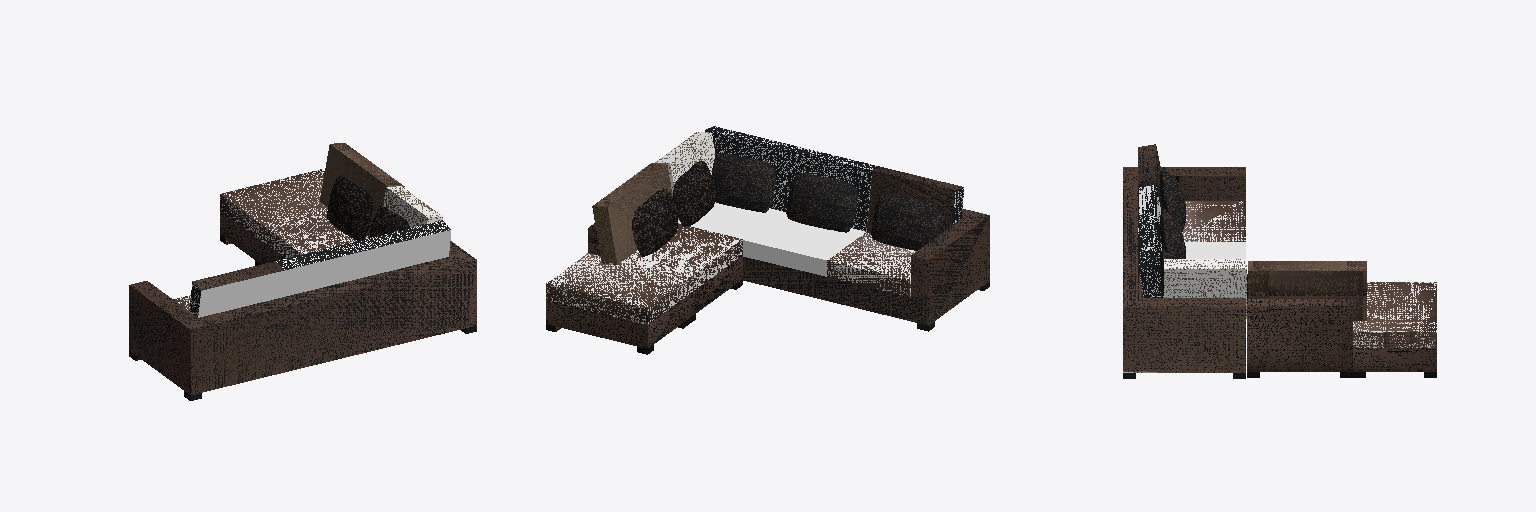
3 renders of one model, left to right at view 1: azimuth 30°, elevation 25°; view 2: azimuth 150°, elevation 25°; view 3: azimuth 270°, elevation 25°, orthographic.
Visible parts, largest first — view 1: mesh4_mesh4-geometry, mesh2_mesh2-geometry, mesh3_mesh3-geometry, mesh9_mesh9-geometry, mesh1_mesh1-geometry, mesh8_mesh8-geometry; view 2: mesh4_mesh4-geometry, mesh2_mesh2-geometry, mesh3_mesh3-geometry, mesh7_mesh7-geometry, mesh6_mesh6-geometry, mesh5_mesh5-geometry, mesh9_mesh9-geometry, mesh8_mesh8-geometry, mesh1_mesh1-geometry; view 3: mesh4_mesh4-geometry, mesh2_mesh2-geometry, mesh3_mesh3-geometry, mesh1_mesh1-geometry, mesh6_mesh6-geometry, mesh7_mesh7-geometry.
Part boxes in pixels (x1,y1,x2,y2): mesh4_mesh4-geometry: (129,220,476,400); mesh2_mesh2-geometry: (220,169,368,265); mesh3_mesh3-geometry: (320,143,404,236); mesh9_mesh9-geometry: (327,176,372,240); mesh1_mesh1-geometry: (383,186,442,227); mesh8_mesh8-geometry: (369,206,409,237); mesh4_mesh4-geometry: (678,126,989,331); mesh2_mesh2-geometry: (546,223,742,354); mesh3_mesh3-geometry: (592,163,672,264); mesh7_mesh7-geometry: (786,173,857,232); mesh6_mesh6-geometry: (871,194,942,250); mesh5_mesh5-geometry: (712,153,775,212); mesh9_mesh9-geometry: (632,188,678,256); mesh8_mesh8-geometry: (673,161,715,226); mesh1_mesh1-geometry: (655,132,715,220); mesh4_mesh4-geometry: (1123,144,1245,378); mesh2_mesh2-geometry: (1247,282,1436,377); mesh3_mesh3-geometry: (1248,261,1366,320); mesh1_mesh1-geometry: (1164,259,1246,318); mesh6_mesh6-geometry: (1160,167,1185,231); mesh7_mesh7-geometry: (1160,208,1185,258).
Bounding box in the file's own units: 0.7045 × 0.2481 × 0.665.
Materials: 19 (9 with a texture image).